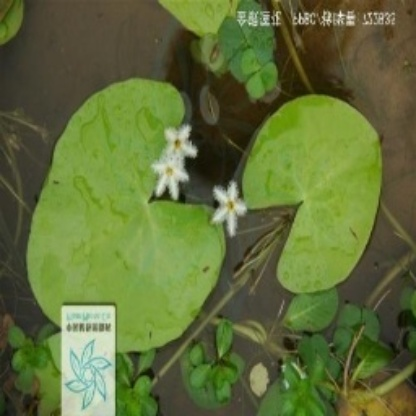leaf: (241, 96, 383, 293)
